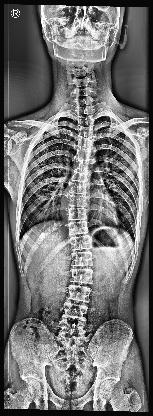Vertebrae: (58, 318, 88, 338), (65, 283, 94, 303), (60, 301, 89, 321), (68, 268, 94, 286), (68, 236, 94, 250), (70, 252, 94, 266), (70, 169, 90, 183), (68, 207, 88, 221), (69, 223, 89, 236), (74, 157, 92, 171), (76, 125, 96, 137), (69, 195, 89, 207), (76, 146, 93, 160), (70, 183, 89, 195), (78, 136, 94, 148)
